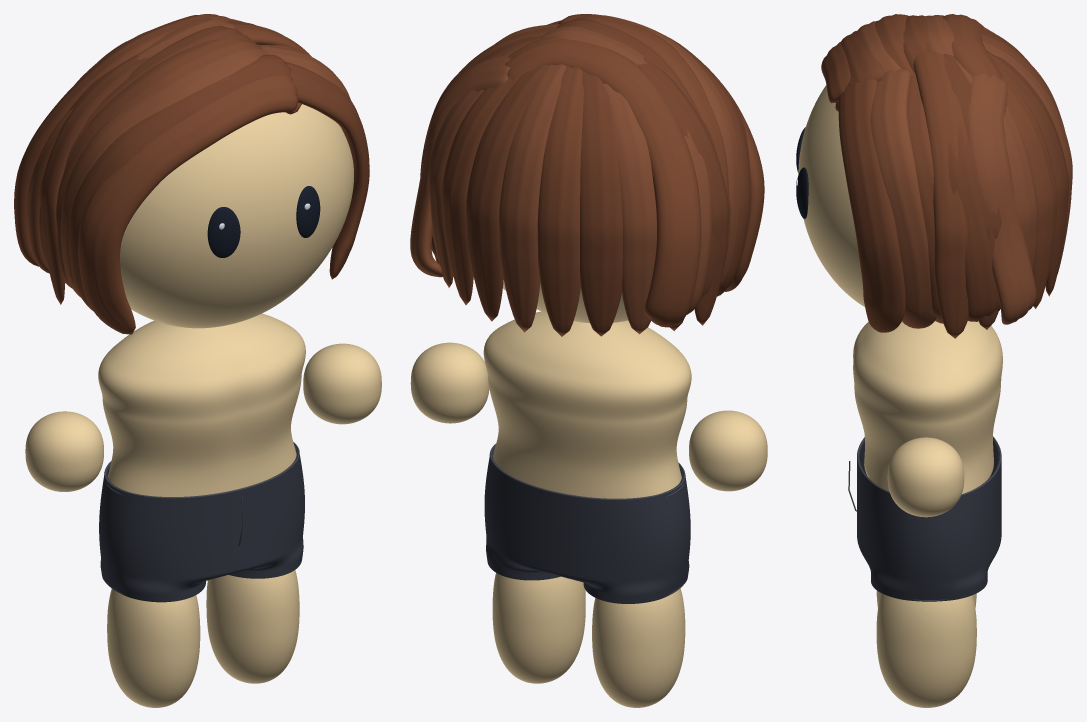
File: Feminine-base.glb
3 views of the same model, side by side, from view 1: azimuth 30°, elevation 25°; view 2: azimuth 150°, elevation 25°; view 3: azimuth 270°, elevation 25° (orthographic).
Parts seen in each view (by area): view 1: Skin / soft oval head, Skin / rounded torso, Clothing / fixed shorts, Hair / Bob / side sweep 0, Skin / leg blob -1, Skin / leg blob 1, Hair / Bob / side sweep 1, Hair / Bob / side sweep 2, Skin / orb hand 1, Skin / orb hand -1, Hair / Bob / side sweep 7, Hair / Bob / side sweep 22 (+8 smaller); view 2: Skin / rounded torso, Clothing / fixed shorts, Hair / Bob / side sweep 6, Hair / Bob / side sweep 18, Hair / Bob / side sweep 19, Skin / leg blob -1, Hair / Bob / side sweep 17, Skin / leg blob 1, Hair / Bob / side sweep 16, Hair / Bob / side sweep 20, Hair / Bob / side sweep 15, Skin / orb hand -1 (+12 smaller); view 3: Skin / rounded torso, Clothing / fixed shorts, Skin / leg blob 1, Hair / Bob / side sweep 7, Hair / Bob / side sweep 12, Hair / Bob / side sweep 11, Hair / Bob / side sweep 8, Skin / soft oval head, Skin / orb hand 1, Hair / Bob / side sweep 10, Hair / Bob / side sweep 15, Hair / Bob / side sweep 16 (+13 smaller).
Boxes of the visible parts, x1,y1,x2,y2 form: Skin / soft oval head: [120, 104, 353, 328]; Skin / rounded torso: [98, 313, 305, 496]; Clothing / fixed shorts: [99, 445, 304, 602]; Hair / Bob / side sweep 0: [78, 75, 301, 334]; Skin / leg blob -1: [107, 588, 200, 707]; Skin / leg blob 1: [206, 570, 299, 683]; Hair / Bob / side sweep 1: [68, 54, 293, 311]; Hair / Bob / side sweep 2: [60, 48, 268, 297]; Skin / orb hand 1: [303, 343, 381, 424]; Skin / orb hand -1: [25, 411, 103, 491]; Hair / Bob / side sweep 7: [286, 62, 369, 279]; Hair / Bob / side sweep 22: [39, 54, 148, 304]; Skin / rounded torso: [483, 311, 691, 498]; Clothing / fixed shorts: [484, 446, 690, 603]; Hair / Bob / side sweep 6: [505, 37, 701, 327]; Hair / Bob / side sweep 18: [537, 66, 583, 336]; Hair / Bob / side sweep 19: [580, 71, 622, 336]; Skin / leg blob -1: [592, 588, 685, 707]; Hair / Bob / side sweep 17: [499, 64, 566, 332]; Skin / leg blob 1: [492, 573, 585, 683]; Hair / Bob / side sweep 16: [466, 65, 548, 321]; Hair / Bob / side sweep 20: [603, 83, 656, 334]; Hair / Bob / side sweep 15: [441, 75, 521, 304]; Skin / orb hand -1: [689, 410, 767, 491]; Skin / rounded torso: [853, 321, 1002, 493]; Clothing / fixed shorts: [857, 439, 1001, 601]; Skin / leg blob 1: [876, 593, 976, 707]; Hair / Bob / side sweep 7: [838, 78, 905, 332]; Hair / Bob / side sweep 12: [913, 50, 971, 338]; Hair / Bob / side sweep 11: [967, 73, 1036, 324]; Hair / Bob / side sweep 8: [870, 69, 936, 328]; Skin / soft oval head: [798, 85, 935, 321]; Skin / orb hand 1: [887, 437, 964, 517]; Hair / Bob / side sweep 10: [948, 126, 1000, 321]; Hair / Bob / side sweep 15: [999, 69, 1057, 308]; Hair / Bob / side sweep 16: [986, 50, 1068, 296].
Size of the model in its own units: 1.23 by 2.25 by 0.8655.
